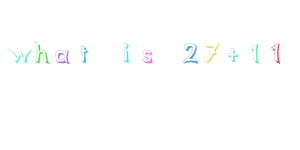+: (223, 42, 244, 68)
1: (264, 35, 291, 69), (244, 36, 267, 69)
2: (177, 39, 202, 69)
7: (200, 38, 223, 68)
a: (52, 47, 73, 66)
h: (33, 40, 51, 66)
i: (115, 40, 138, 67)
s: (138, 46, 161, 70)
t: (75, 41, 96, 68)
w: (4, 43, 30, 67)
